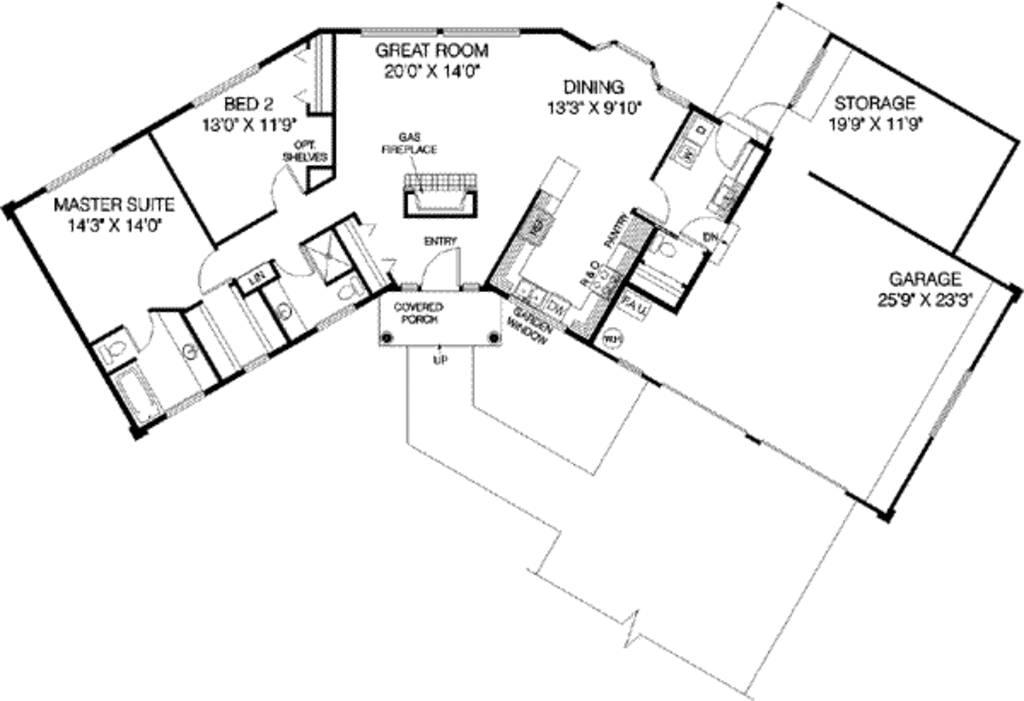door: (677, 206, 742, 267), (713, 116, 762, 172), (637, 172, 678, 225), (737, 99, 796, 135), (268, 253, 329, 287), (264, 165, 311, 209), (186, 249, 229, 295), (120, 315, 163, 360), (422, 247, 464, 291)
large_sink: (88, 329, 137, 364), (646, 232, 684, 264), (333, 277, 366, 302)
small_sink: (266, 295, 310, 326), (172, 328, 205, 367)
tub: (108, 362, 166, 426)
twin_sink: (510, 276, 549, 317)
window: (592, 35, 686, 102), (928, 361, 976, 453), (39, 143, 126, 192), (180, 62, 262, 111), (438, 22, 523, 47), (360, 26, 442, 43)
